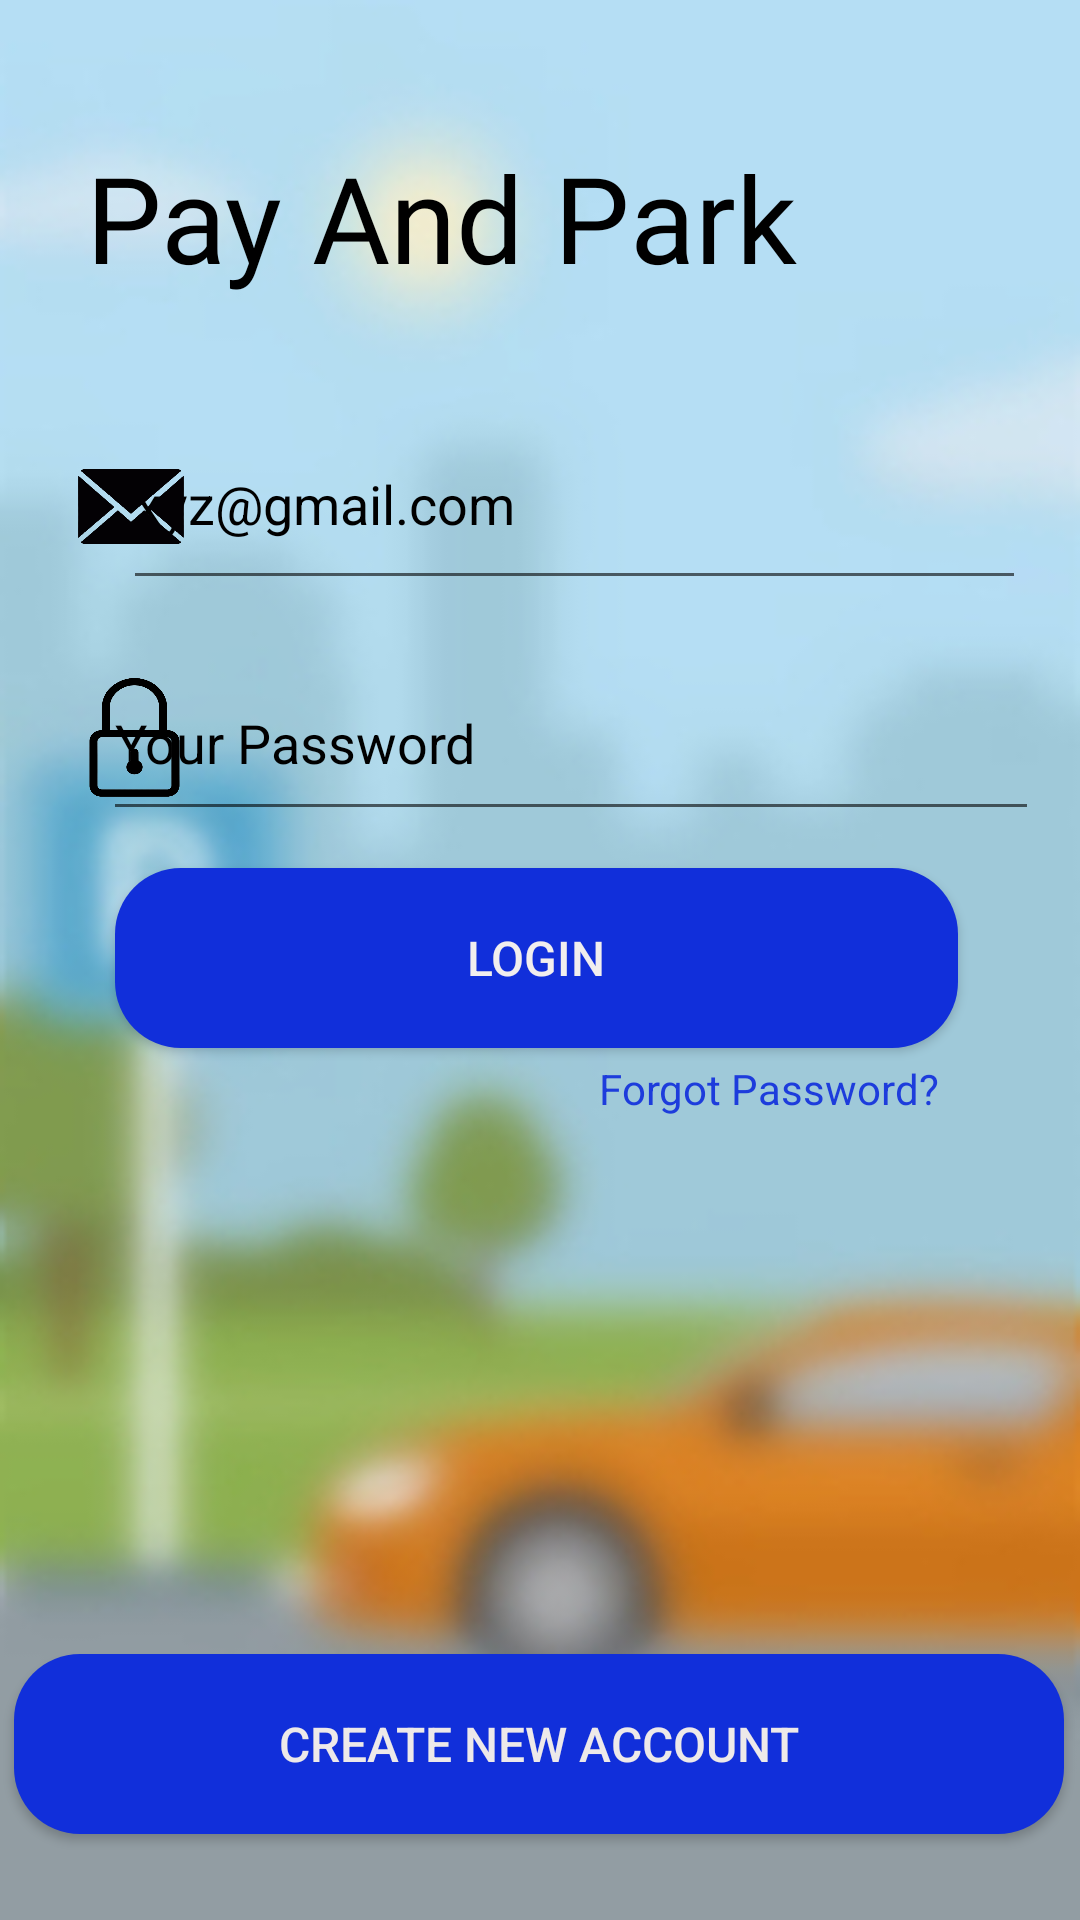

Locate icon controls on the screen. Image size 1080x1920, boxes as (x1,y1,x2,y2).
email: (52,469,213,549)
